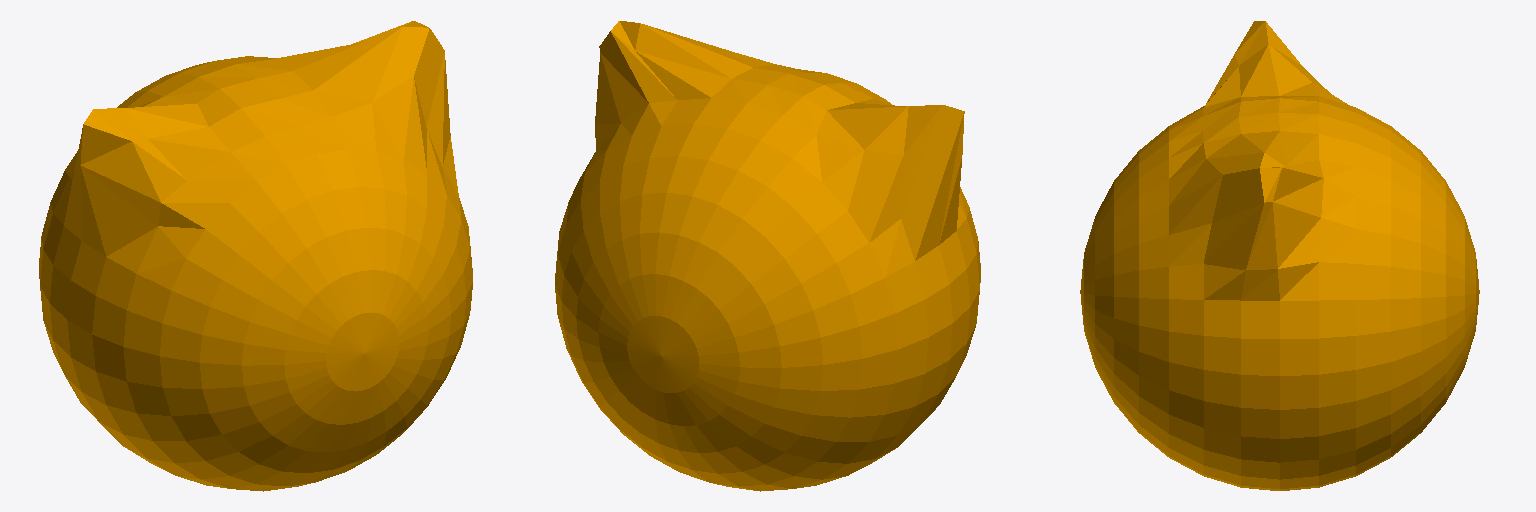
The robot description file, URDF, robot "object":
<?xml version="1.0"?>
<robot name="object">
  <link name="object">
    <visual>
      <origin xyz="0 0 0"/>
      <geometry>
        <mesh filename="meshes/final/final_obj14_cathead.obj" scale=".065 .065 .065"/>
      </geometry>
    </visual>
    <collision>
      <origin xyz="0 0 0"/>
      <geometry>
        <mesh filename="meshes/final/final_obj14_cathead.obj" scale=".065 .065 .065"/>
<!--          <mesh filename="meshes/custom/obj0_ball.obj" scale=".05 .05 .05"/>-->
      </geometry>
    </collision>
    <inertial>
      <density value="1000.0"/>
    </inertial>
  </link>
</robot>

--- Render facts (derived) ---
3 views of the same robot in one strip: view 1: azimuth 30°, elevation 25°; view 2: azimuth 150°, elevation 25°; view 3: azimuth 270°, elevation 25° (orthographic).
Robot: object — 1 links, 0 joints (none); root link object; default pose: every joint at zero.
Visible links, largest first — view 1: object; view 2: object; view 3: object.
Boxes of the visible links, box(x1,y1,x2,y2) form: object: box(39, 21, 472, 491); object: box(555, 21, 980, 491); object: box(1080, 21, 1479, 490).
Size in the robot's own frame: 0.0715 by 0.0715 by 0.0755 metres.
1 mesh visuals loaded from 1 distinct referenced files (1 OBJ).
